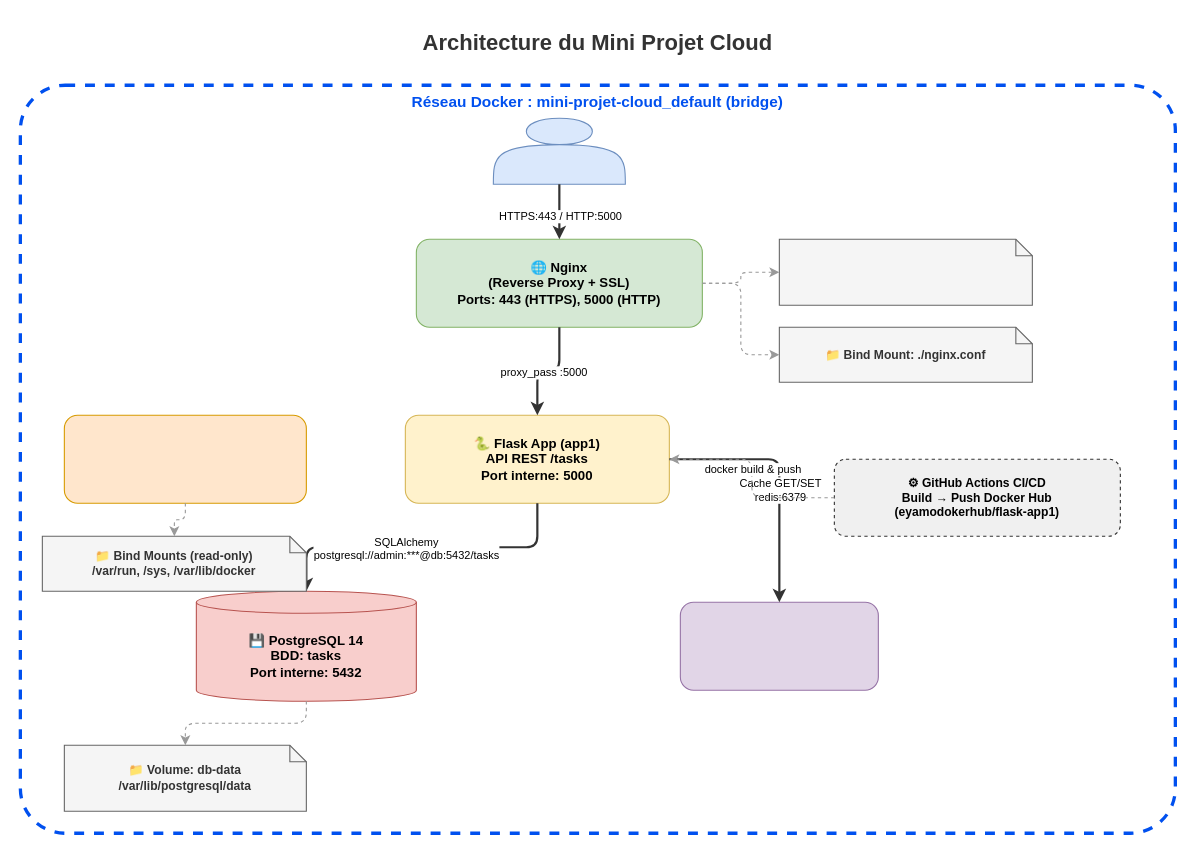
The diagram is 1196 pixels wide and 854 high, and some of its shapes have lost their labels. Each missing label, with the centre of its shape:
"⚡ Redis 7 Cache Port: 6379" belongs at (x=778, y=645).
"💻 Client / Navigateur" belongs at (x=558, y=150).
"📁 Bind Mount: ./certs Certificats SSL (selfsigned)" belongs at (x=905, y=271).
"📊 cAdvisor v0.47 Monitoring conteneurs Port: 8080" belongs at (x=184, y=458).
